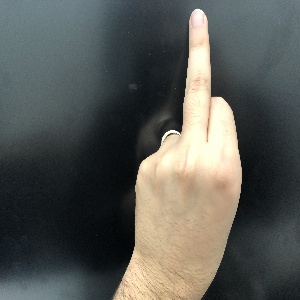hand: (135, 7, 242, 262)
